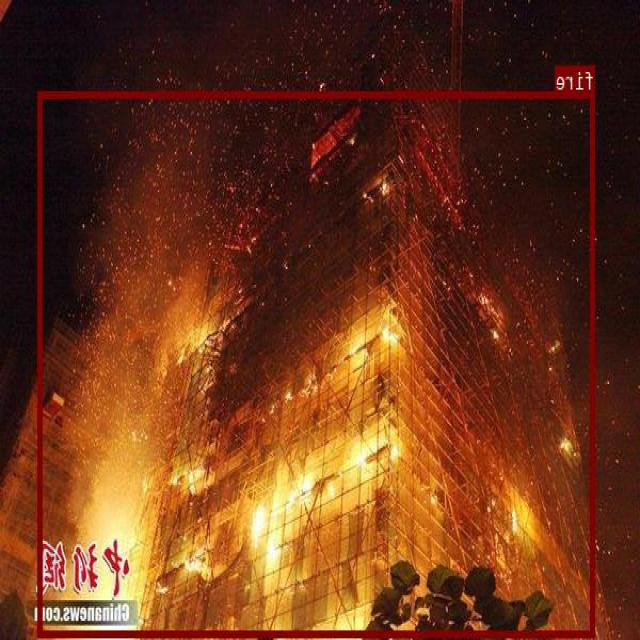fire: (39, 91, 596, 637)
